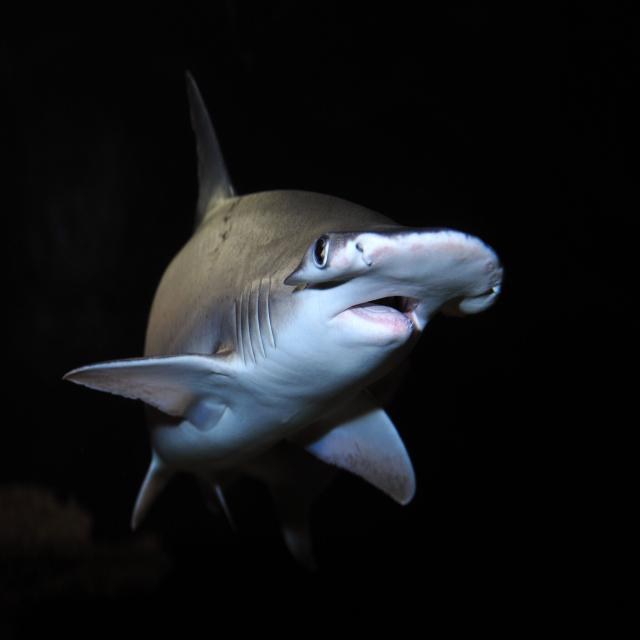shark: (64, 75, 504, 564)
